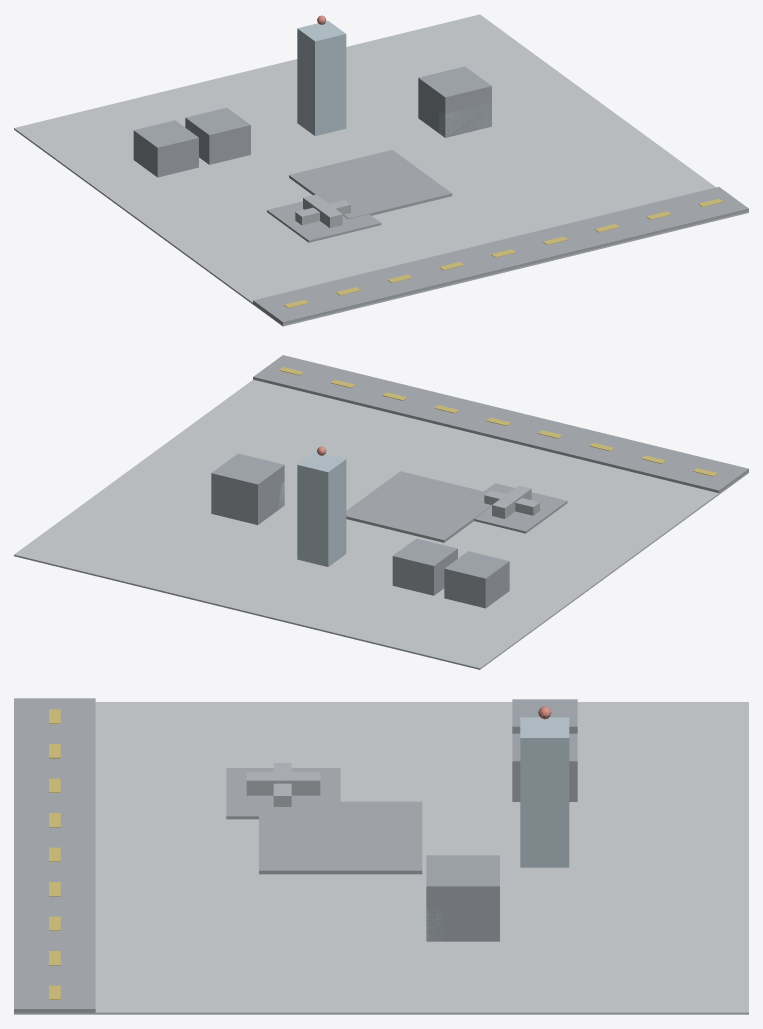
Rendered from stage_06.glb.
3 renders of one model, top to bottom at view 1: azimuth 30°, elevation 25°; view 2: azimuth 150°, elevation 25°; view 3: azimuth 270°, elevation 25°, orthographic. The views are drawn at different scales.
Parts seen in each view (by area): view 1: geometry_0; view 2: geometry_0; view 3: geometry_0.
Boxes of the visible parts, <box> form: geometry_0: <box>14,14,748,326</box>; geometry_0: <box>14,355,748,669</box>; geometry_0: <box>14,698,748,1014</box>.
Bounding box in the file's own units: 9 × 2.06 × 9.
